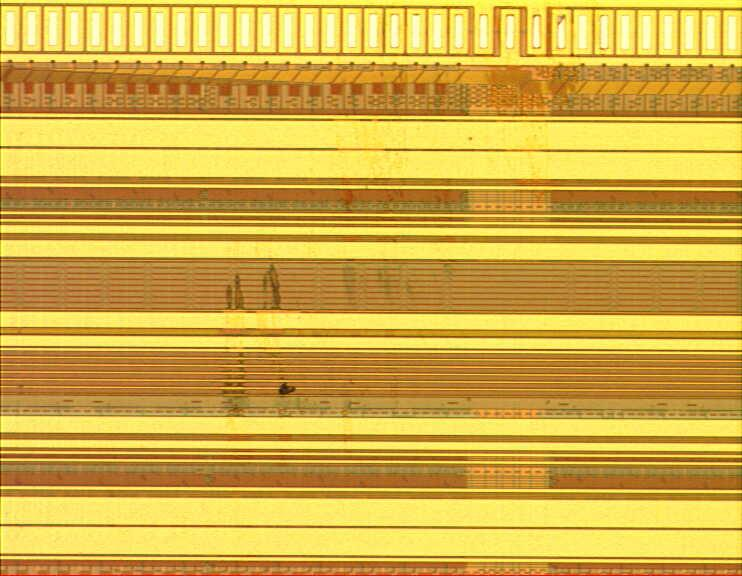SCRATCH: (223, 25, 559, 576)
